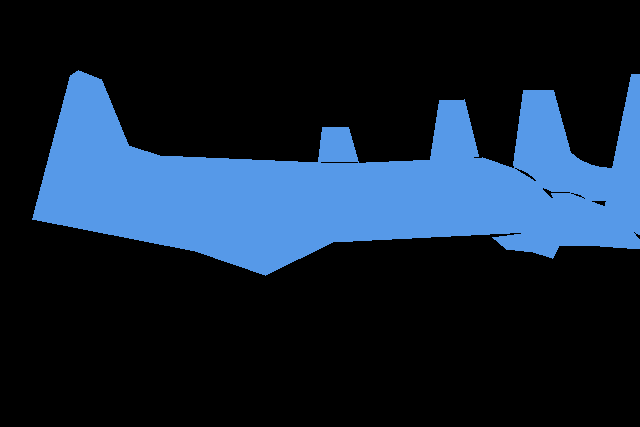Airplane: (32, 70, 568, 276), (429, 99, 640, 258), (513, 90, 615, 200), (603, 73, 640, 235), (318, 127, 358, 163)
